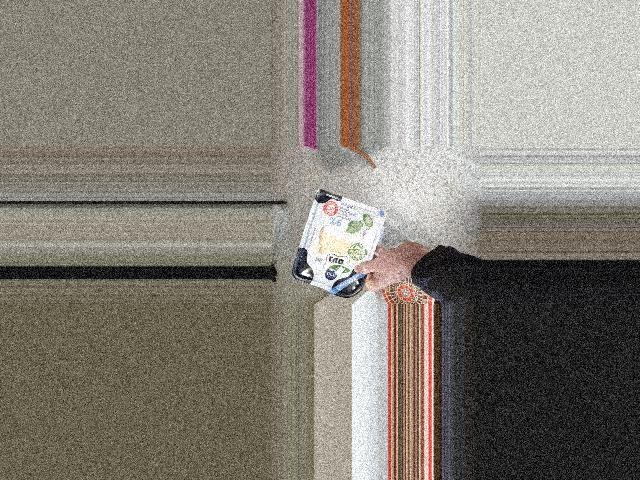cheese: (304, 201, 372, 288)
